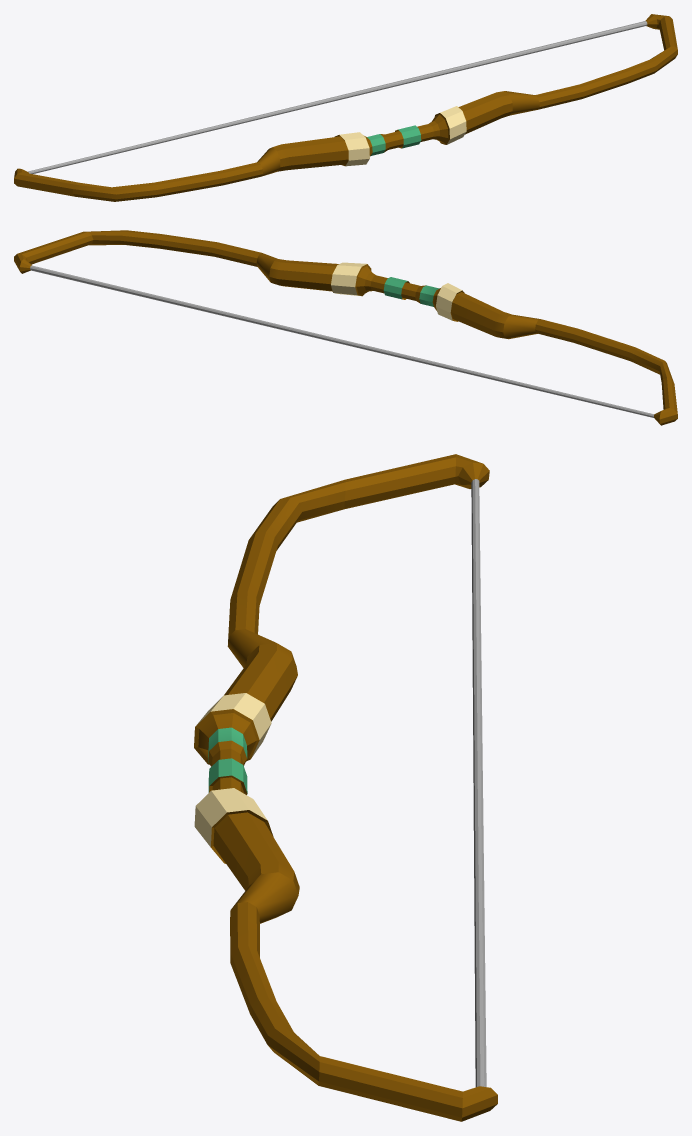
Rendered from bow.fbx.
The picture shows the model from 3 angles, top to bottom: view 1: azimuth 30°, elevation 25°; view 2: azimuth 150°, elevation 25°; view 3: azimuth 270°, elevation 25°; orthographic projection. The views are drawn at different scales.
Visible parts, largest first — view 1: Bow; view 2: Bow; view 3: Bow.
Boxes of the visible parts, left/top/right/bottom form: Bow: left=14, top=14, right=677, bottom=201; Bow: left=14, top=230, right=677, bottom=425; Bow: left=194, top=454, right=497, bottom=1121.
Size of the model in its own units: 24.44 by 1.07 by 4.87.
